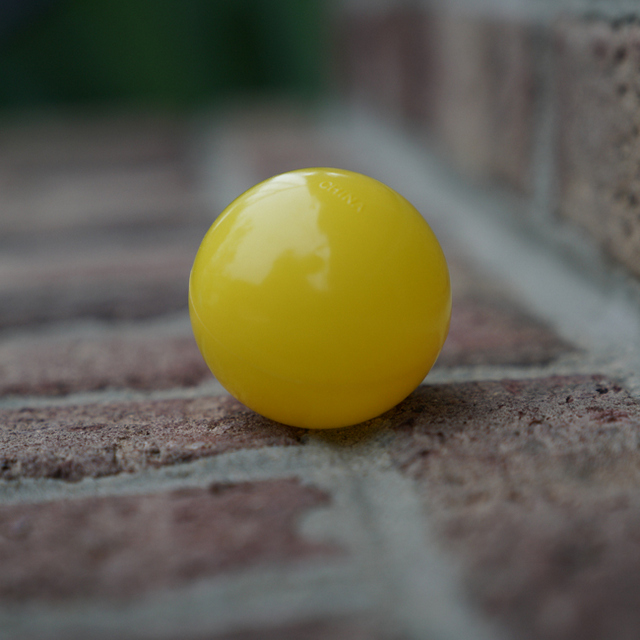Ball: (180, 173, 452, 427)
